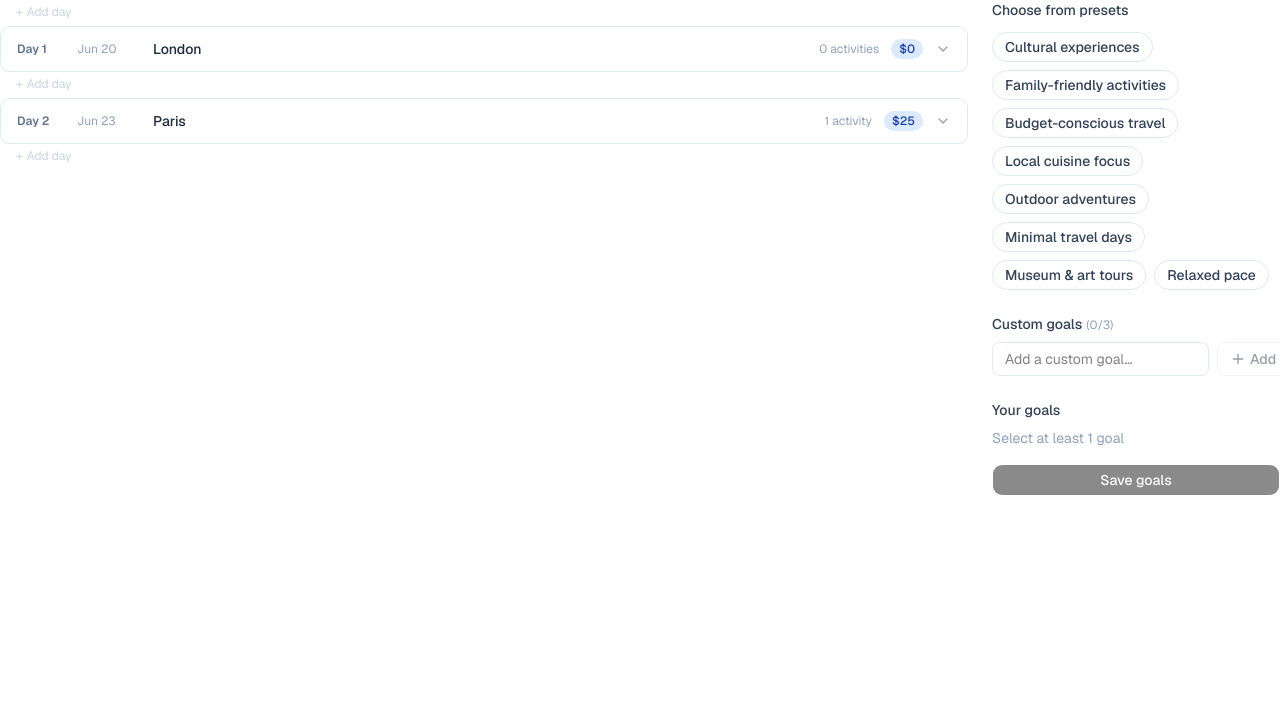
Test: day is optimistically removed from the list after confirming
Expected: the text "London" is shown, [153,40,202,58]
Click the text "Paris" at (169, 121), box [153,112,186,130]
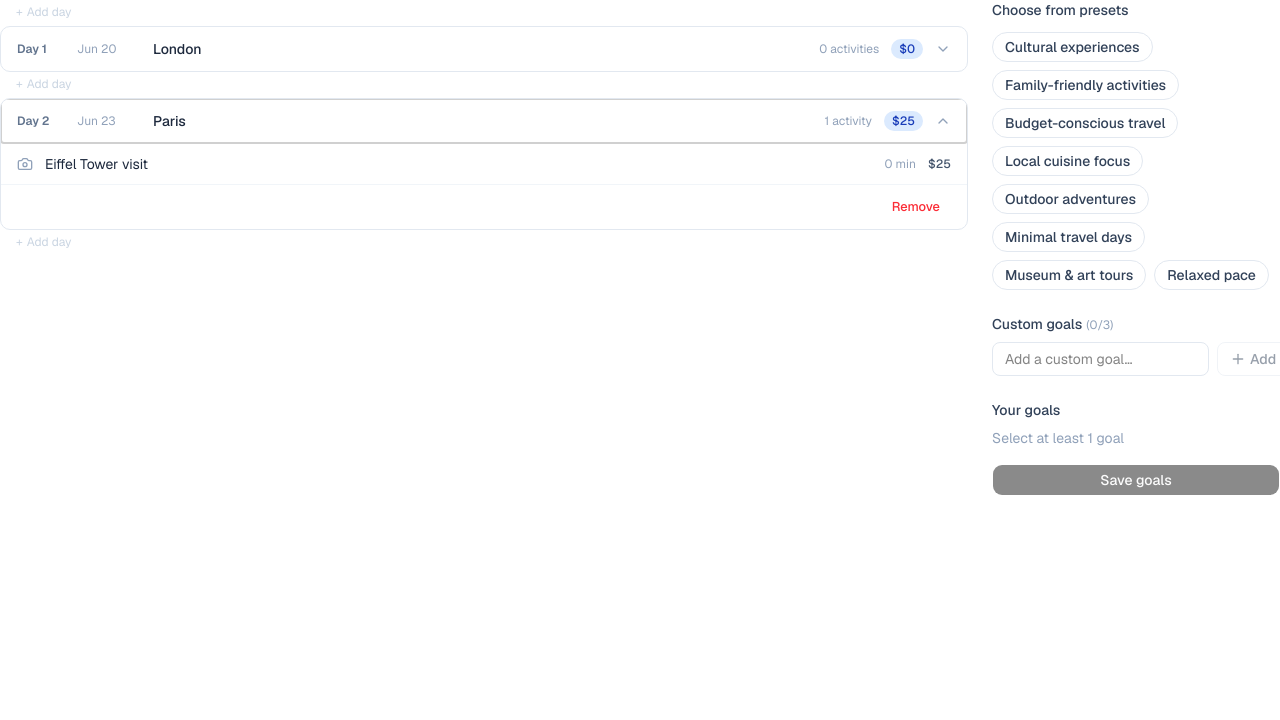
Click the button "Remove" at (916, 207), box [881,193,951,221]
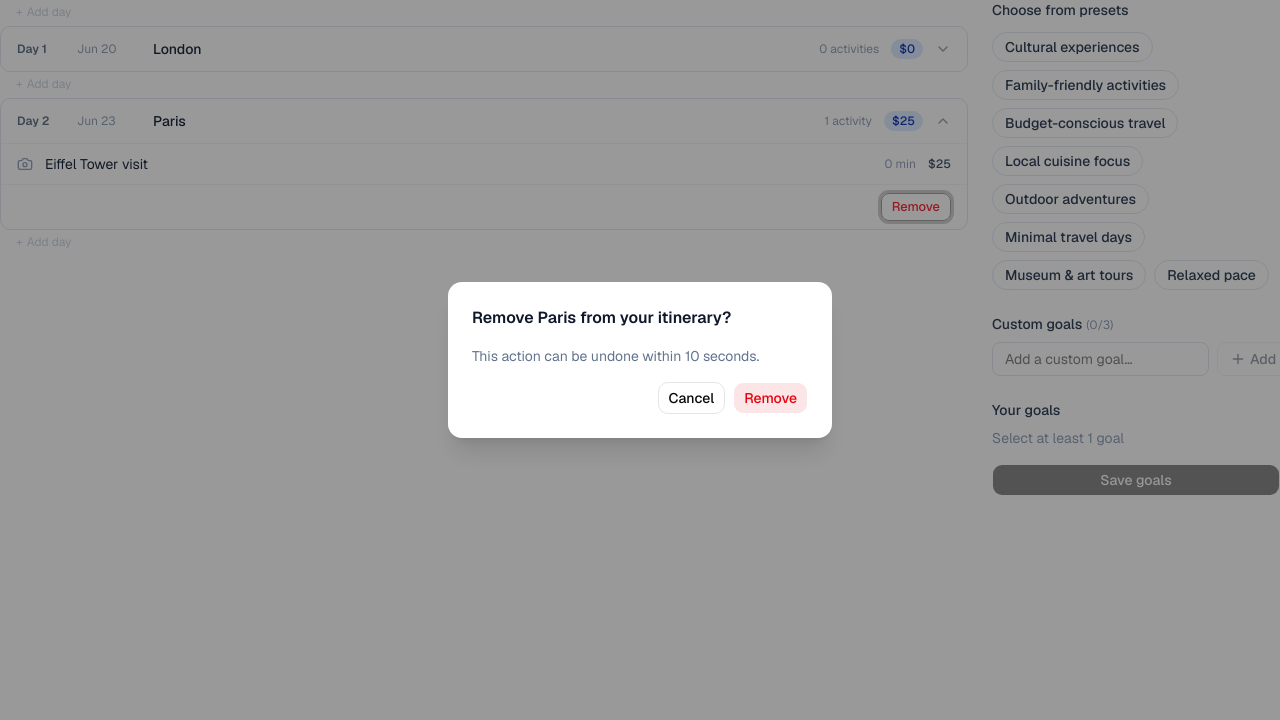
Click the button "Remove" at (771, 398), box [733,382,808,414]
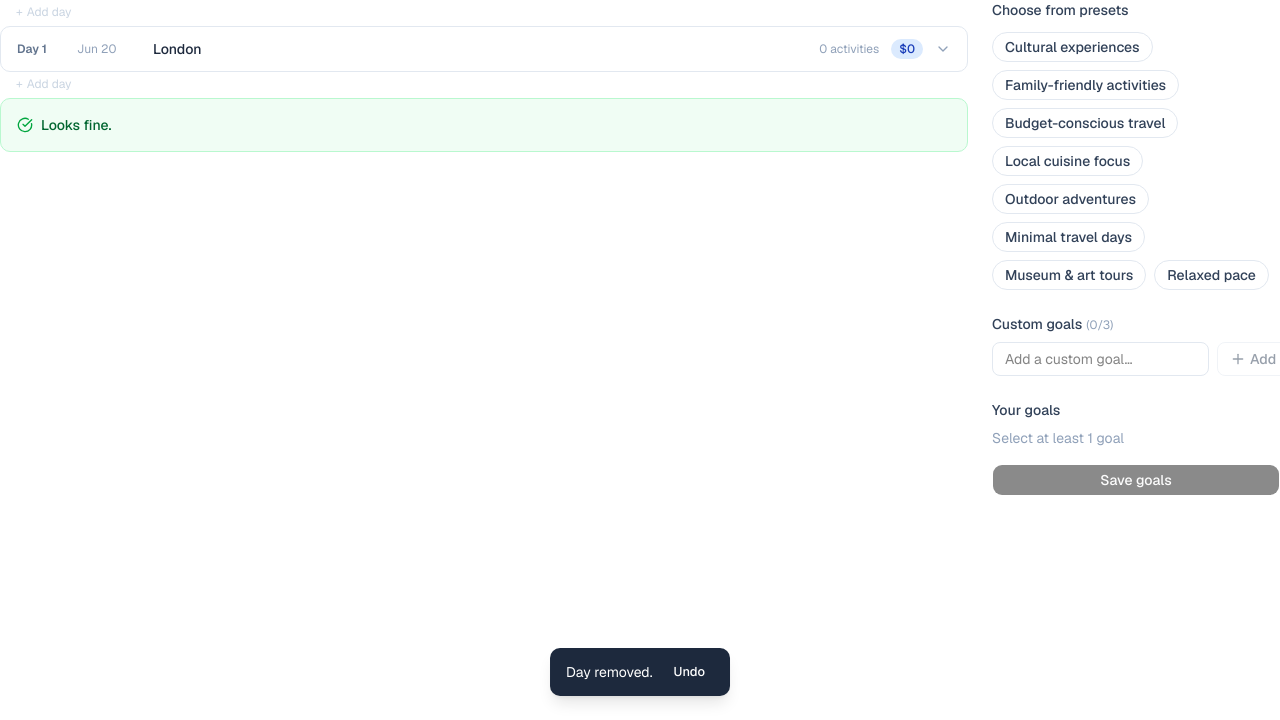
Now the heading "Paris" is gone
